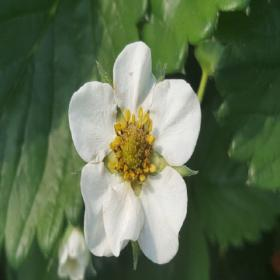Blossom Blight: (108, 106, 159, 185)
